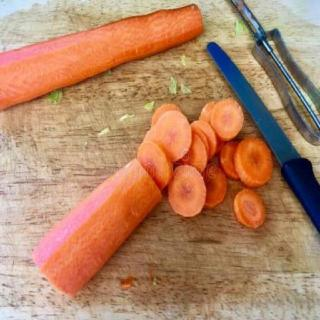carrot: (0, 2, 204, 116), (29, 157, 165, 300)
